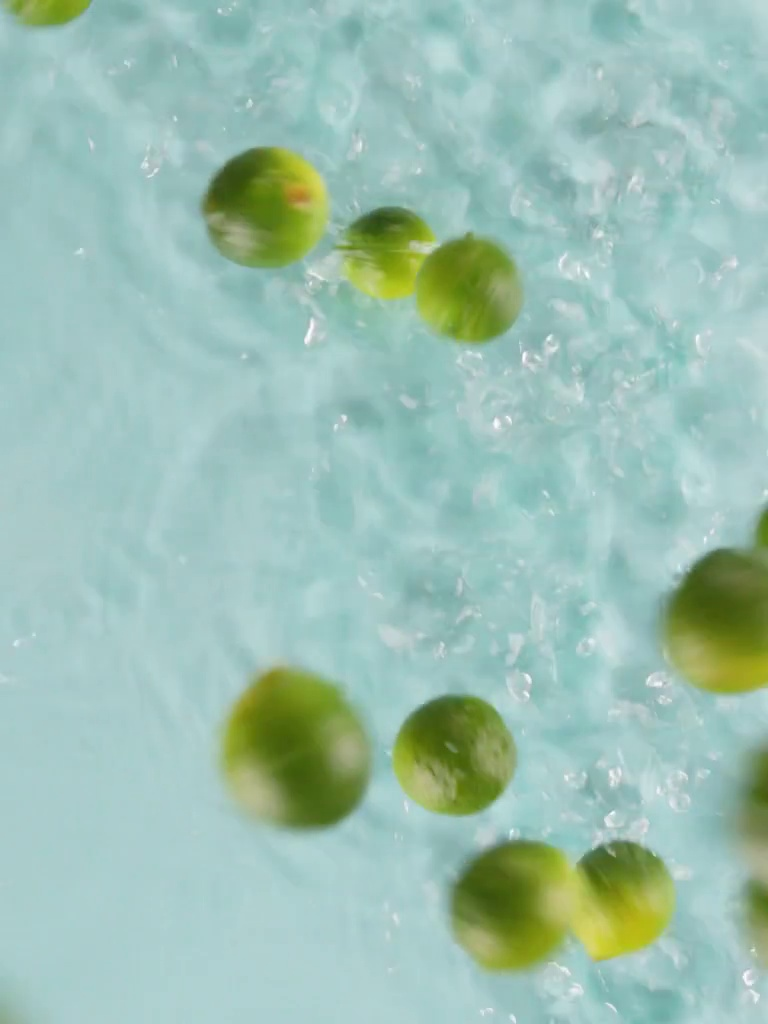Orange: (196, 142, 325, 269), (411, 237, 522, 345)
